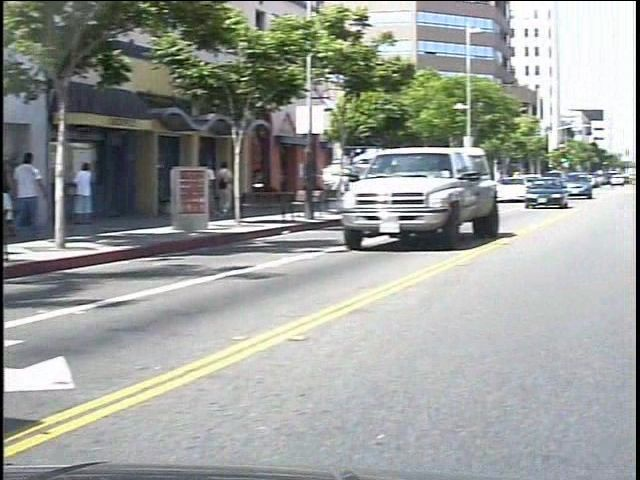person: (27, 151, 64, 241), (13, 149, 44, 241), (84, 155, 113, 230), (227, 161, 249, 223)
